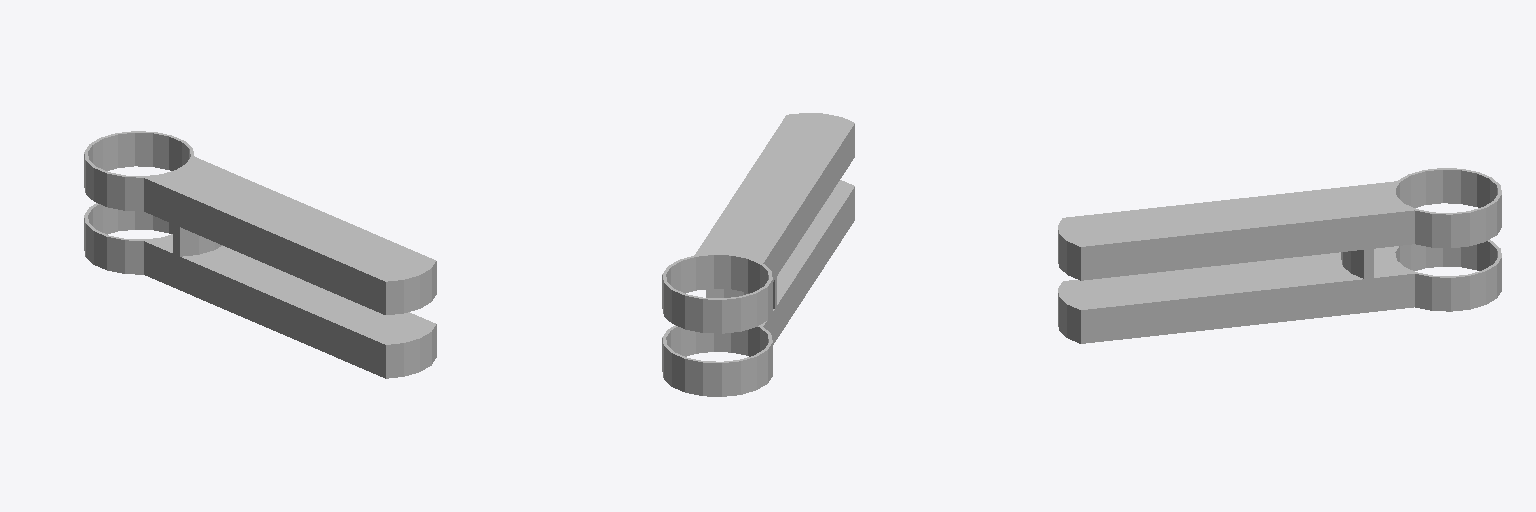
The model's file is RHipPitch_secondaryskin.obj.
3 views of the same model, side by side, from view 1: azimuth 30°, elevation 25°; view 2: azimuth 150°, elevation 25°; view 3: azimuth 270°, elevation 25° (orthographic).
Bounding box in the file's own units: 0.0991 × 0.0567 × 0.2353.